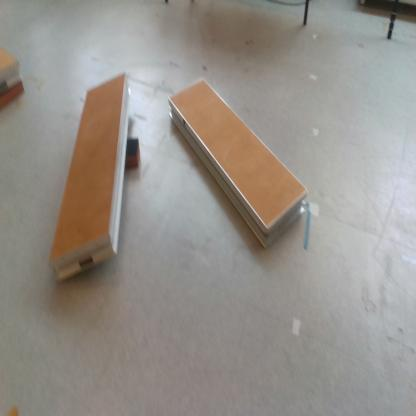Stairs: (171, 77, 310, 252), (50, 73, 133, 283), (1, 44, 22, 97)
